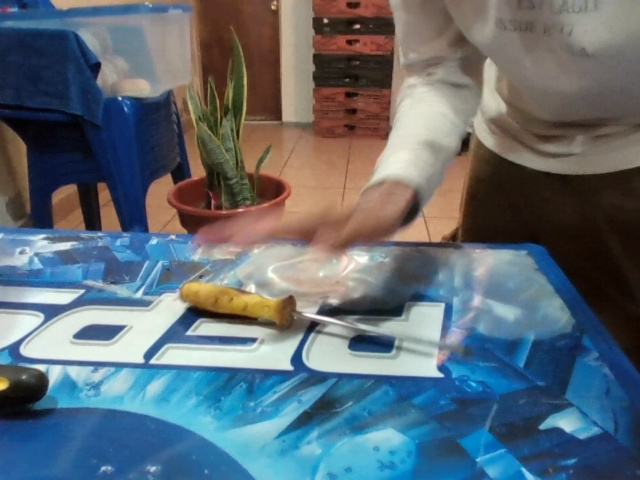destornillador: (179, 281, 445, 351)
